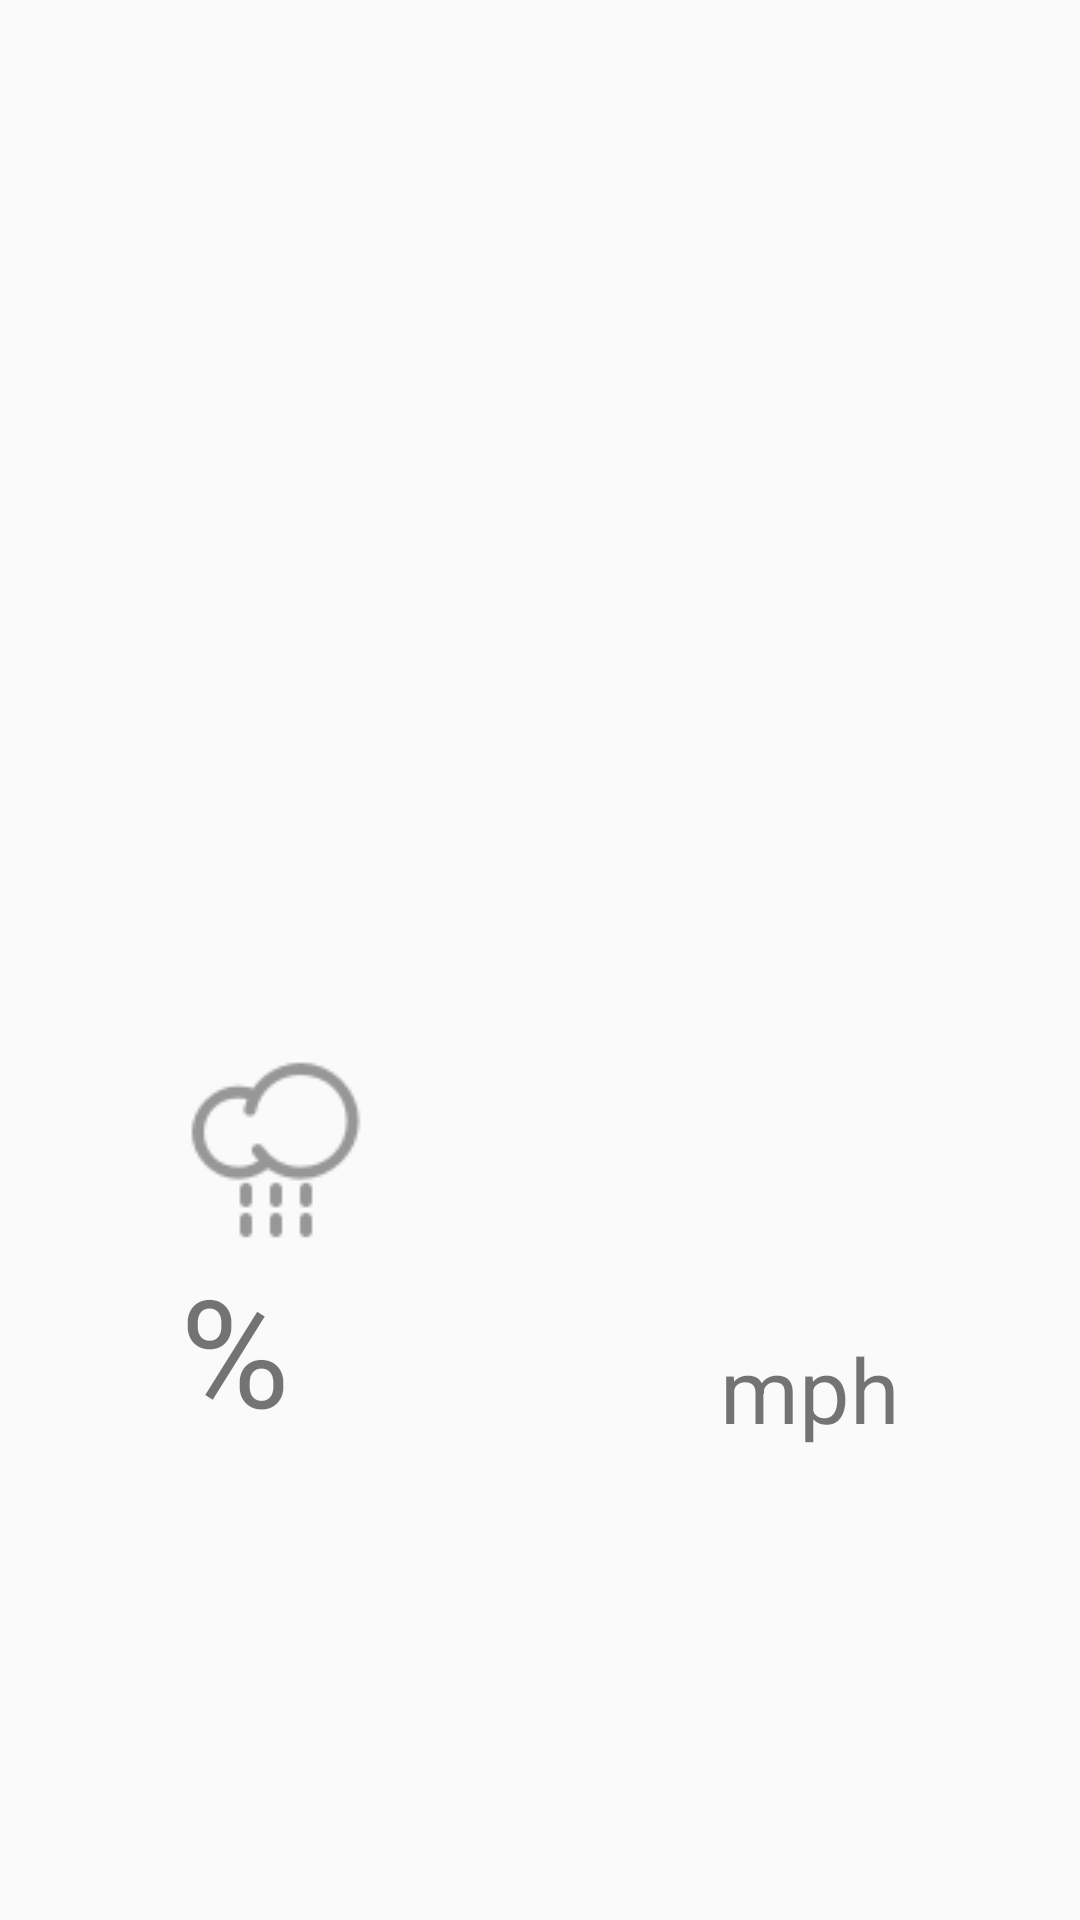

Screen size 1080px×1920px. Icon name, then its center in pixels as [x,y]:
rain: [275,1150]
